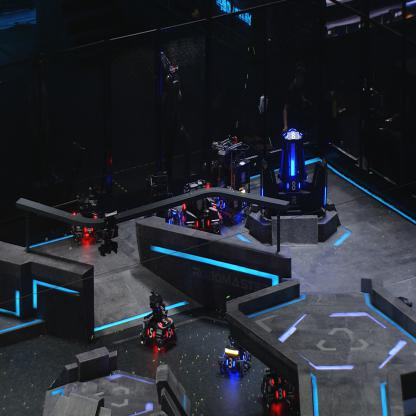car: (210, 135, 253, 222), (179, 175, 223, 234), (139, 288, 178, 351), (142, 172, 182, 230), (261, 355, 295, 410), (73, 186, 105, 244), (218, 330, 253, 376)
